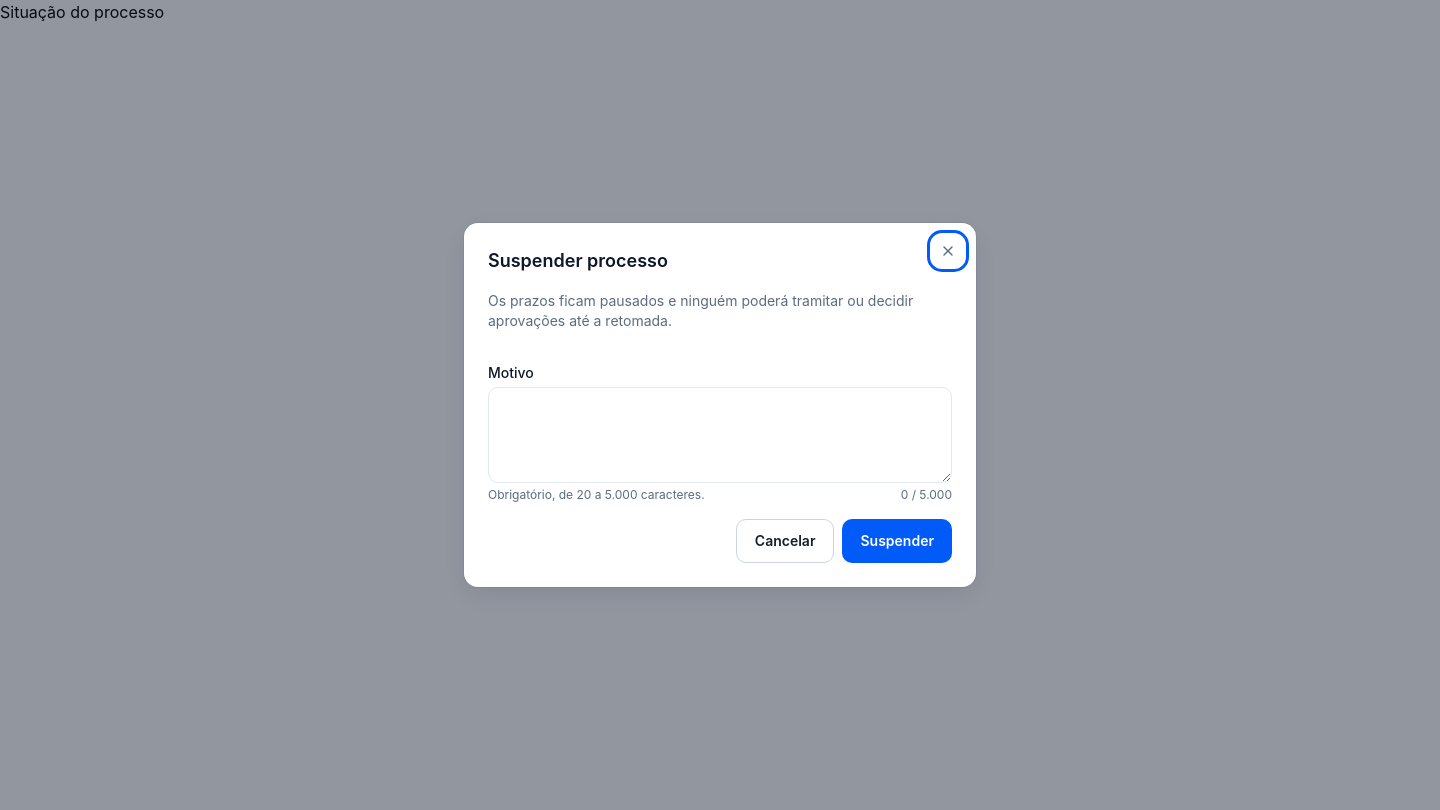
Scenario: SCR-116 · Diálogo "Suspender processo" (US-008) › [Sucesso] explica os efeitos, envia o PRC-23 com If-Match e Idempotency-Key, avisa e devolve o foco ao painel
The image size is (1440, 810).
Expected: the text "Os prazos ficam pausados e ninguém poderá tramitar ou decidir aprovações até a retomada." is shown, [488,292,913,329]
Type "Aguardando definição da dotação pela Secretaria de Finanças" into the text box labelled "Motivo" at (720, 435), box [488,387,952,483]
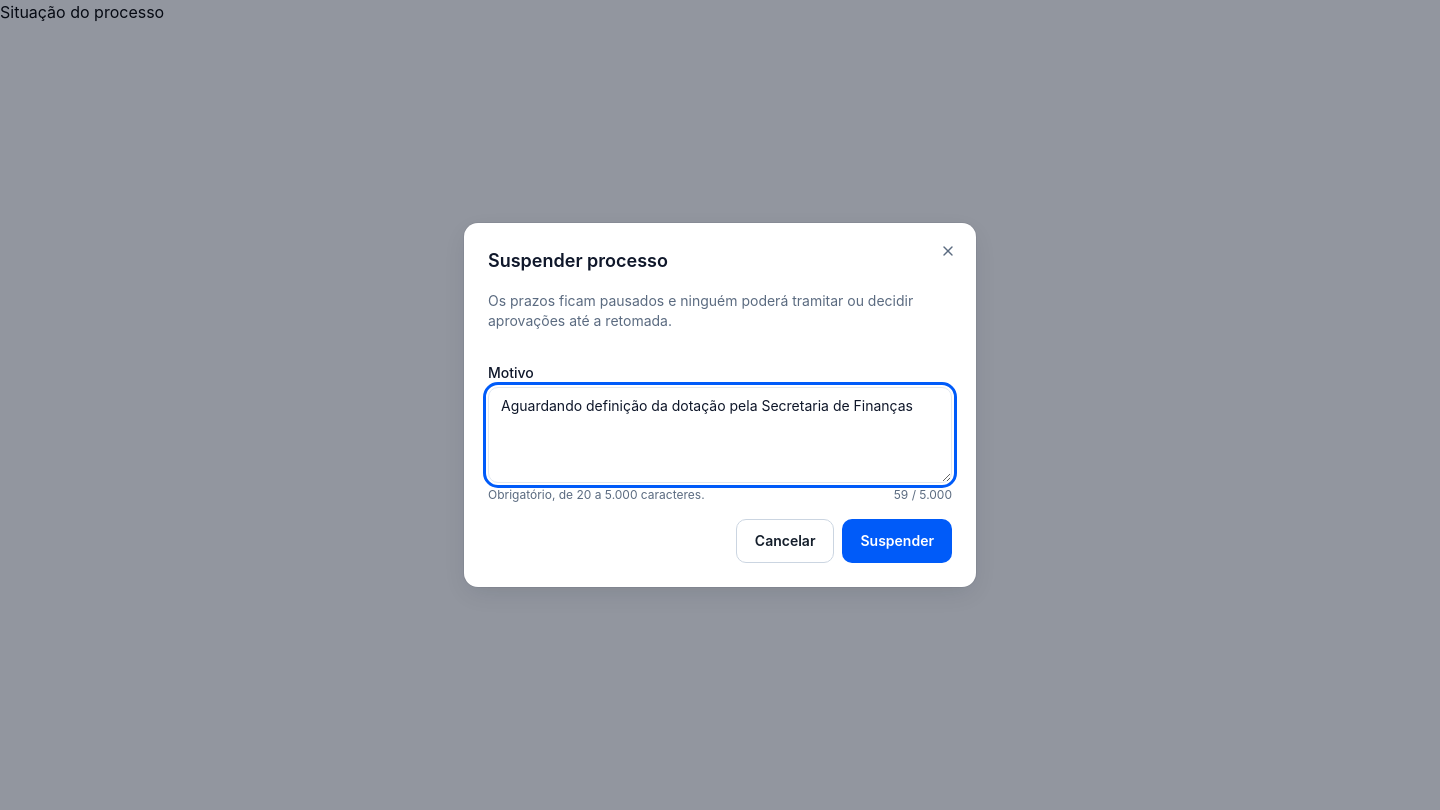
Click the button "Suspender" at (897, 541), box [842,519,952,563]
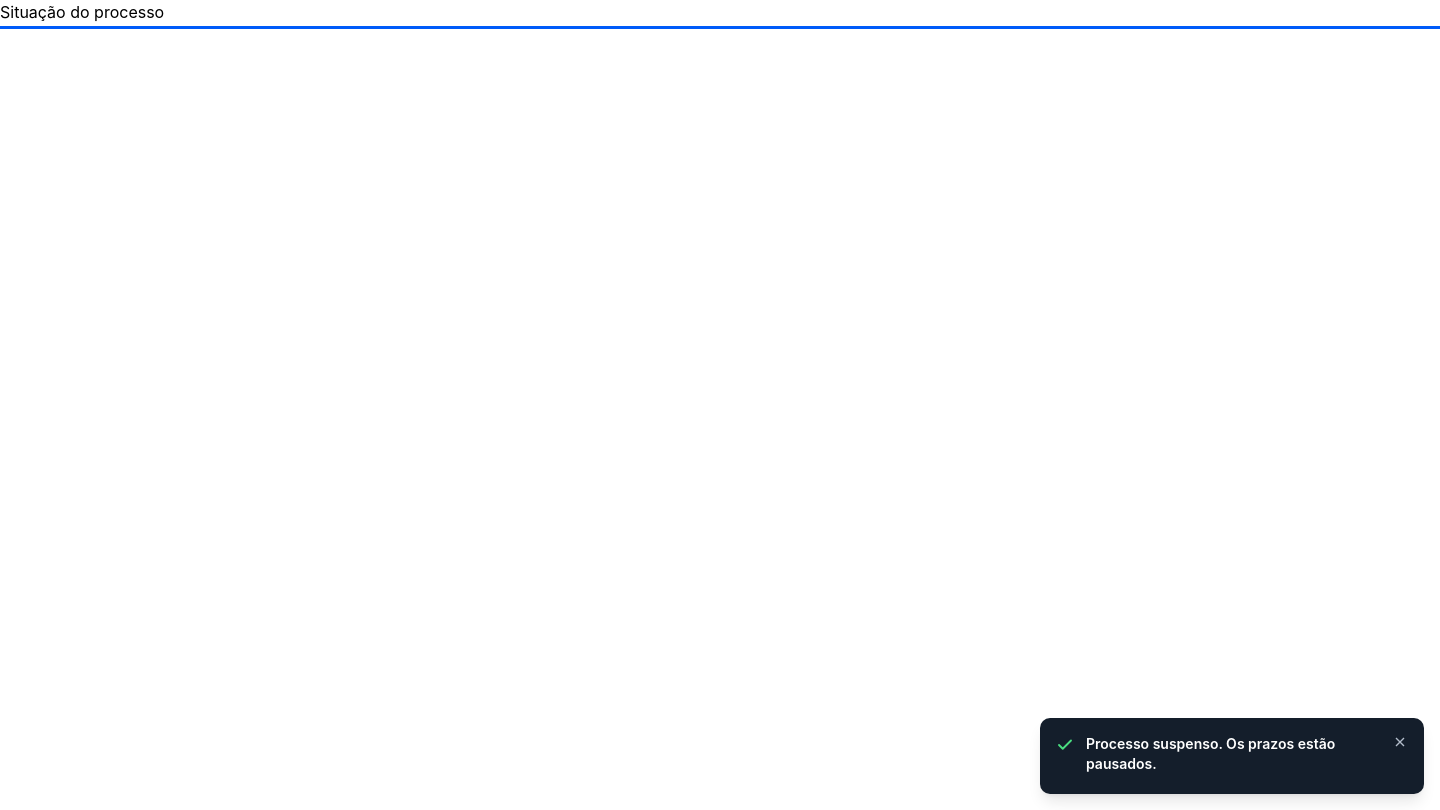
Expected: the text "Processo suspenso. Os prazos estão pausados." is shown, [1086,734,1376,774]
